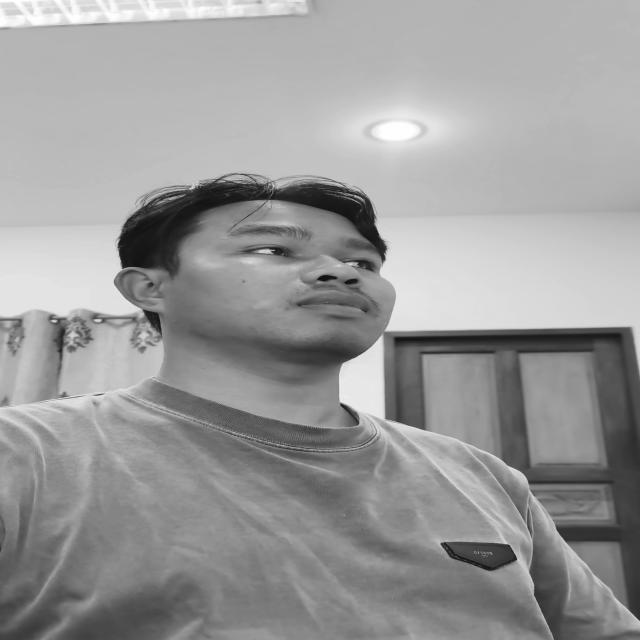ear: (114, 267, 168, 313)
